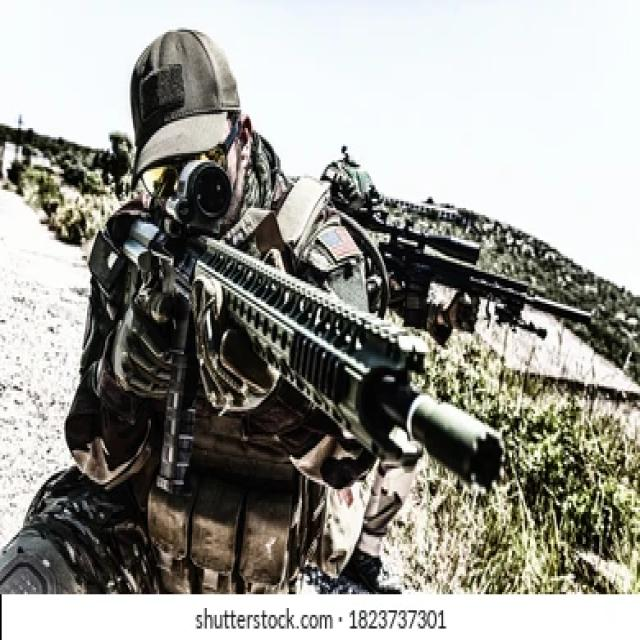soldier: (3, 27, 506, 595)
